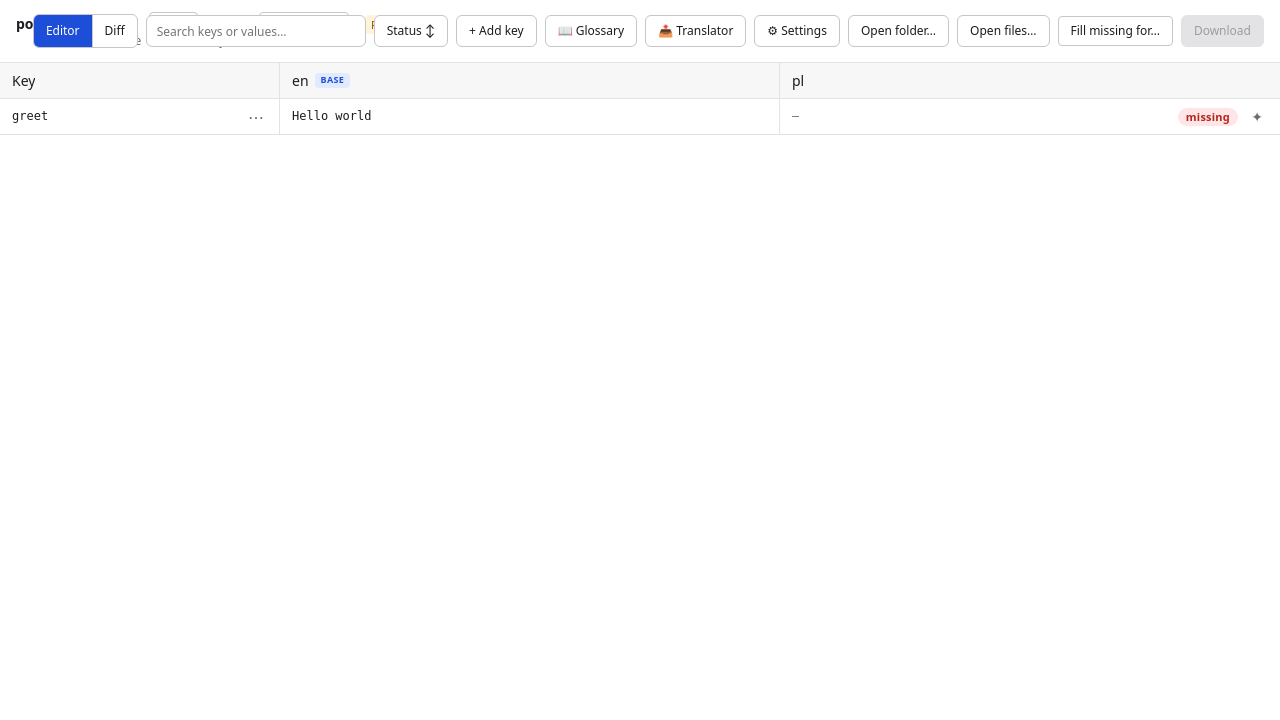
Test case: EditorView Settings button (smoke) › routes through the passphrase prompt and opens the Settings modal once unlocked
Check: the text "greet" is shown, box [12, 109, 48, 123]
Click the button with aria-label "Open settings": (797, 31) [754, 15, 840, 47]
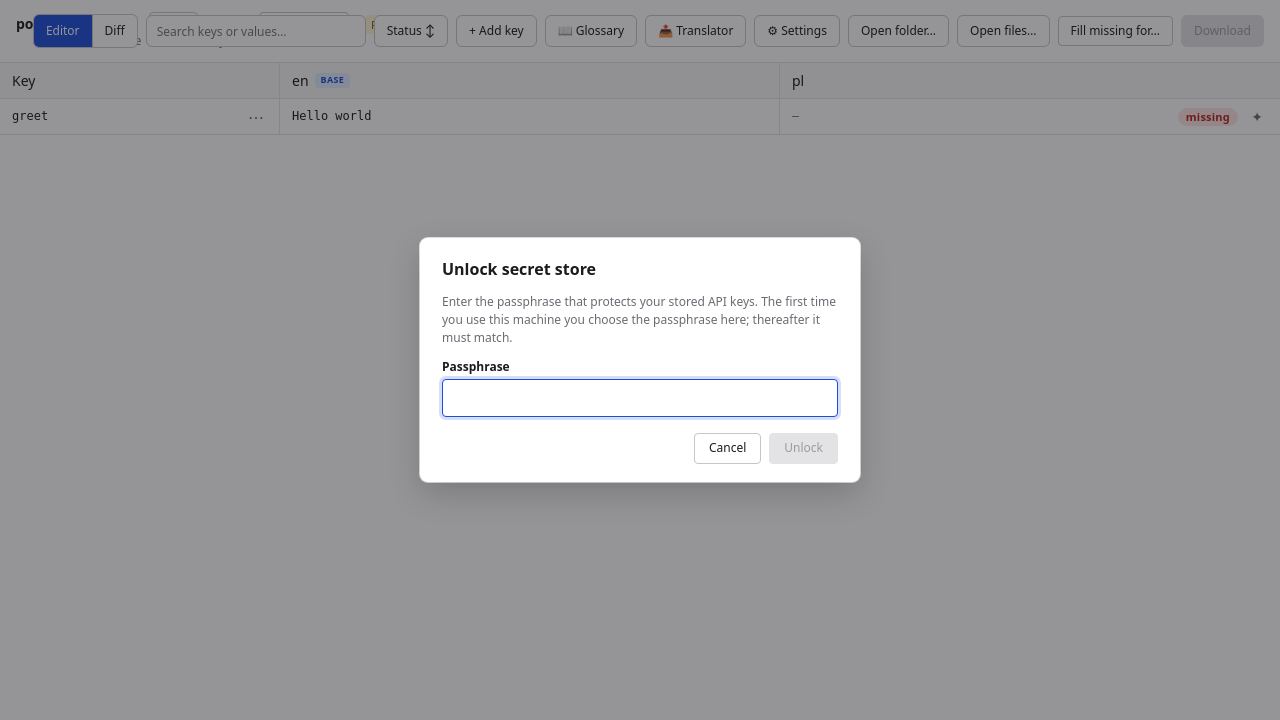
In the password field labelled "Passphrase": (640, 398) [442, 379, 838, 417], type "test-passphrase"
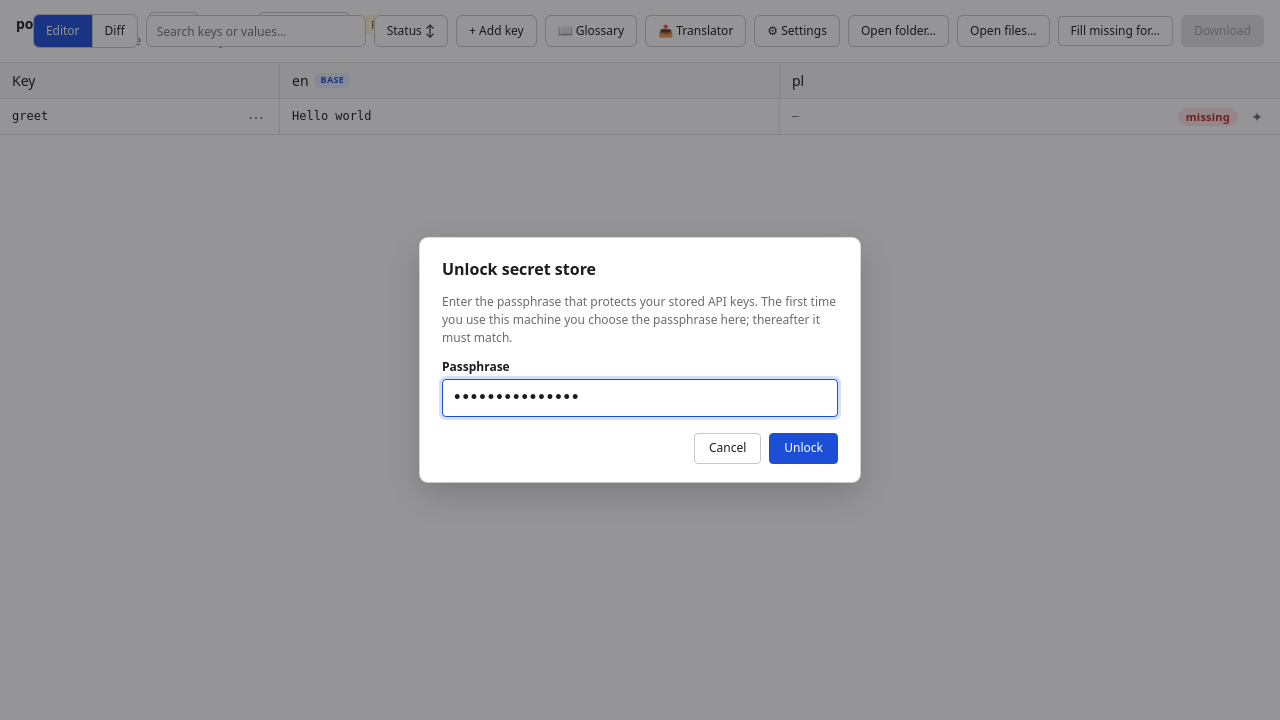
Click the button "Unlock": (804, 448) [769, 433, 838, 464]
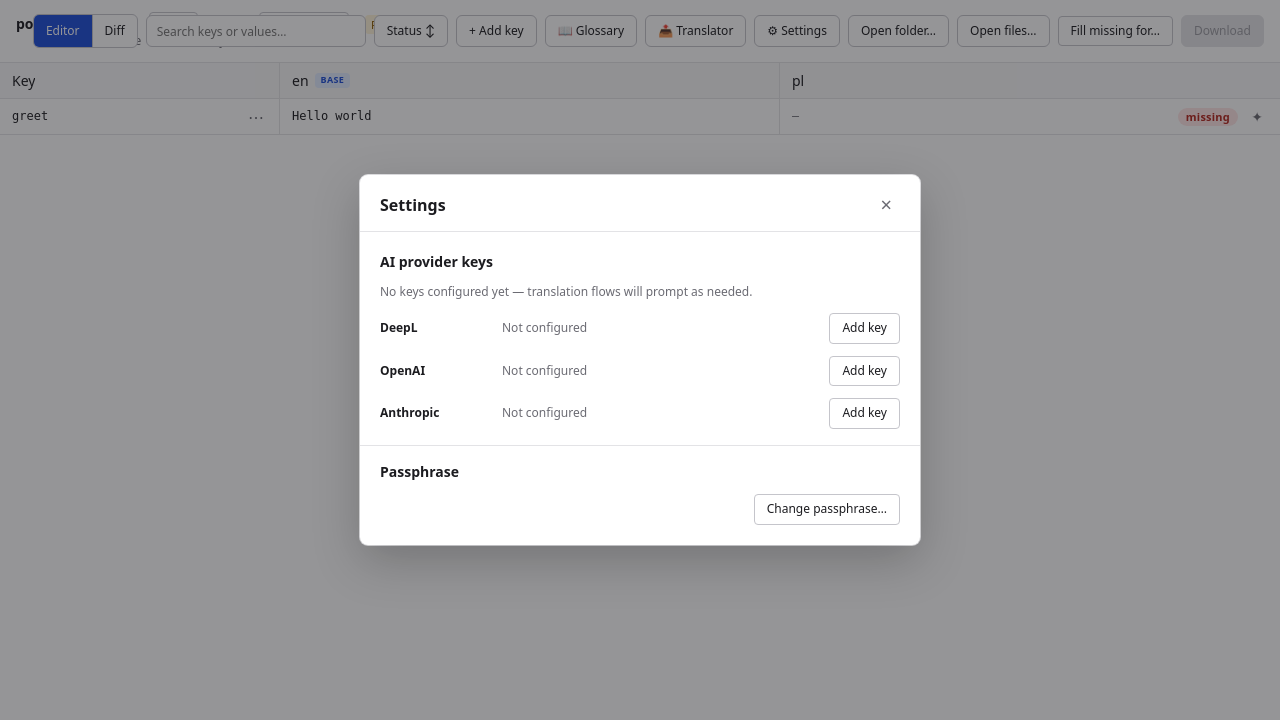
Check: the heading "Settings" is shown, box [380, 194, 446, 217]
